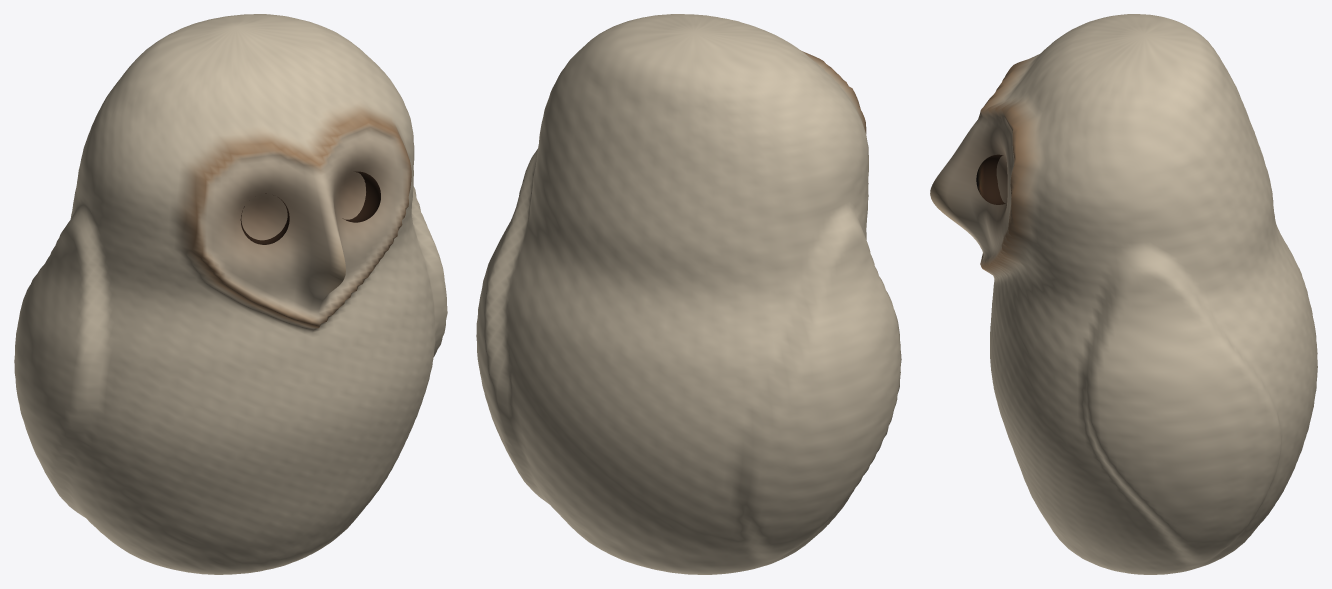
Rendered from buried-wing-NO_RELEASE.glb.
3 views of the same model, side by side, from view 1: azimuth 30°, elevation 25°; view 2: azimuth 150°, elevation 25°; view 3: azimuth 270°, elevation 25° (orthographic). The views are drawn at different scales.
Bounding box in the file's own units: 1.47 × 1.88 × 1.28.
